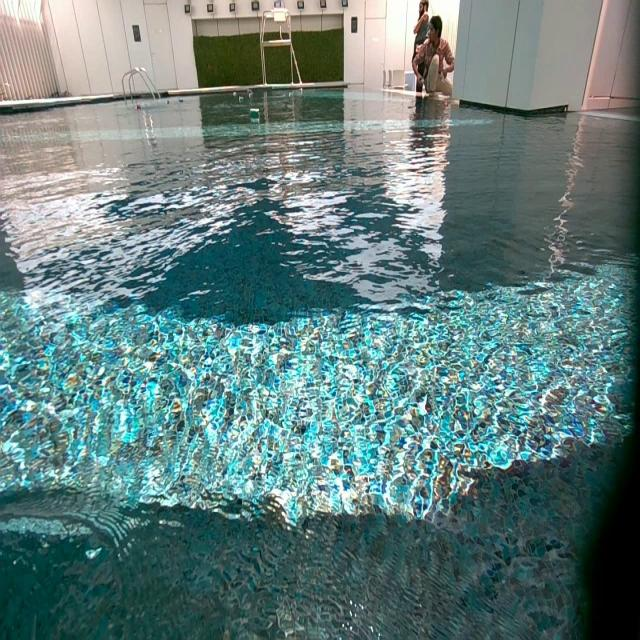Cans: (249, 108, 260, 118), (136, 104, 144, 112), (181, 97, 188, 104), (233, 93, 240, 100), (247, 91, 253, 99), (238, 98, 245, 104), (179, 100, 185, 106), (164, 98, 169, 105), (298, 90, 303, 94)
